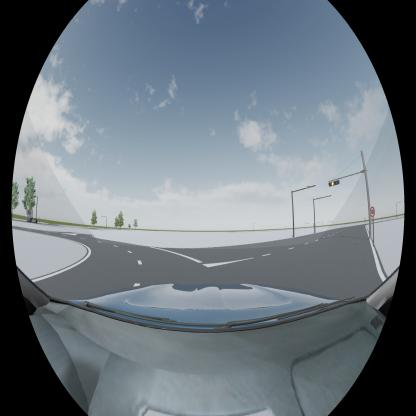Speed Limit 100: (370, 206, 375, 218)
